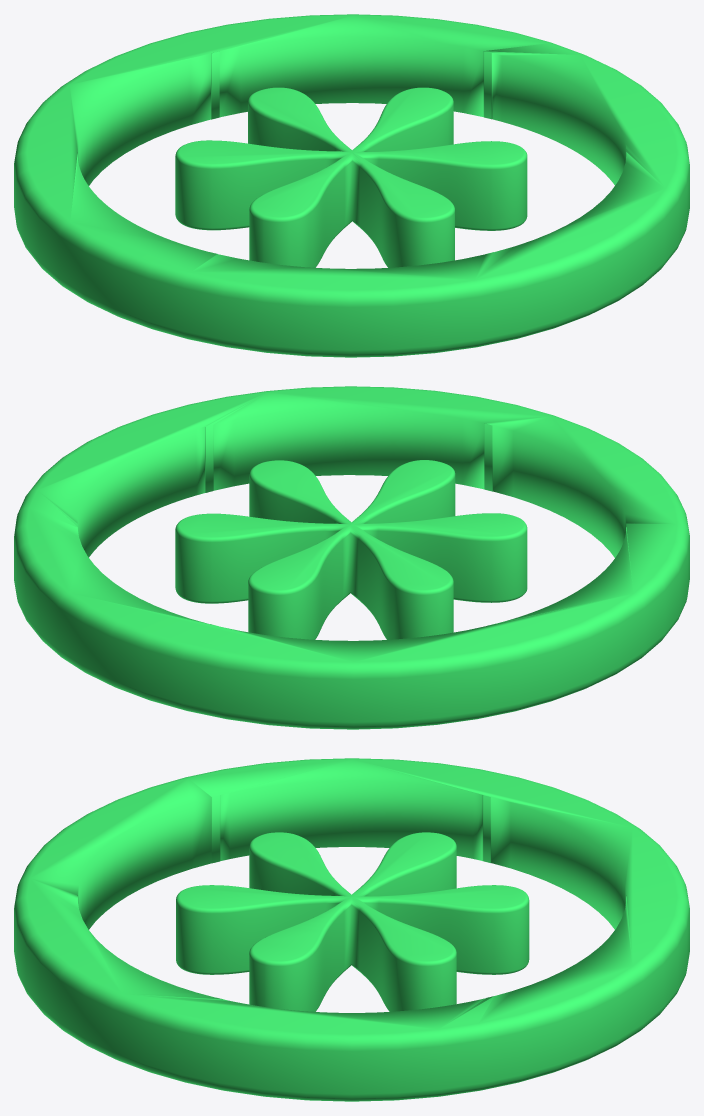
File: bague.glb
3 views of the same model, one above another, from view 1: azimuth 30°, elevation 25°; view 2: azimuth 150°, elevation 25°; view 3: azimuth 270°, elevation 25° (orthographic).
Visible parts, largest first — view 1: Curve.001; view 2: Curve.001; view 3: Curve.001.
Part boxes in pixels (x1,y1,x2,y2): Curve.001: (14, 14, 689, 357); Curve.001: (14, 386, 689, 729); Curve.001: (14, 758, 689, 1101).
Size of the model in its own units: 0.3962 by 0.0428 by 0.3962.
